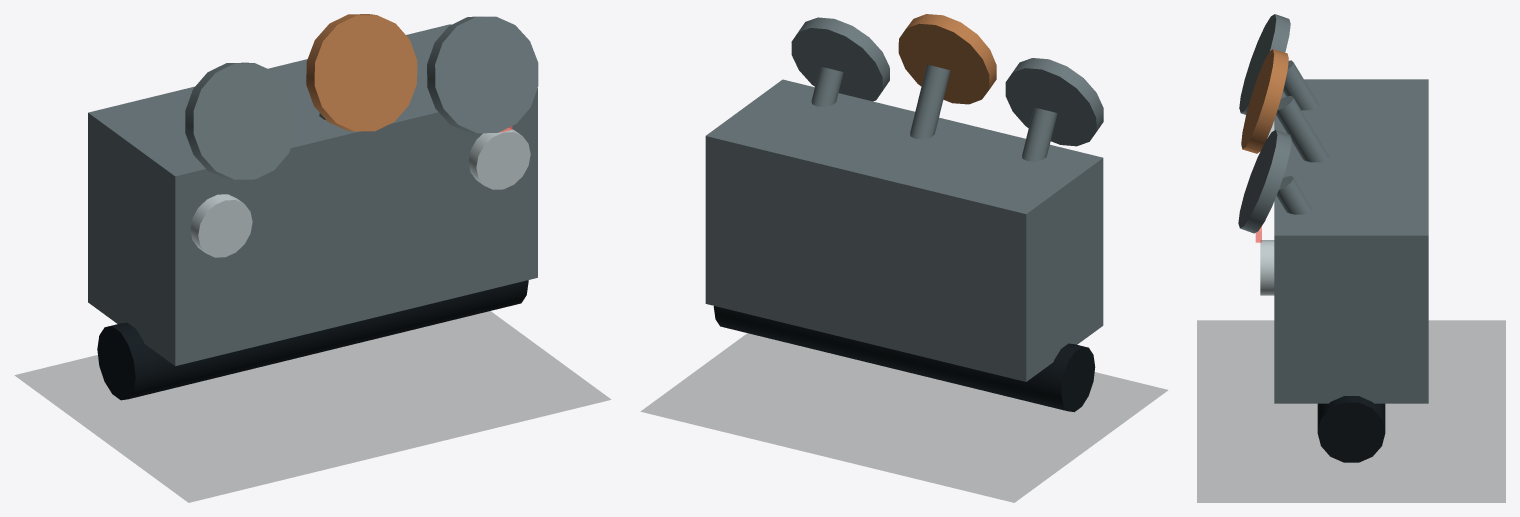
Rendered from hp_room_cyber_valve_cluster.glb.
3 views of the same model, side by side, from view 1: azimuth 30°, elevation 25°; view 2: azimuth 150°, elevation 25°; view 3: azimuth 270°, elevation 25° (orthographic). The views are drawn at different scales.
Visible parts, largest first — view 1: manifold_block, contact_shadow, feed_pipe, valve_wheel_2, valve_wheel_0, valve_wheel_1, gauge_left, gauge_right; view 2: manifold_block, contact_shadow, feed_pipe, valve_wheel_1, valve_wheel_0, valve_wheel_2, valve_stem_1, valve_stem_0, valve_stem_2; view 3: manifold_block, contact_shadow, feed_pipe, valve_wheel_2, valve_wheel_1, valve_wheel_0, valve_stem_1, valve_stem_0, valve_stem_2, gauge_right.
Boxes of the visible parts, left/top/right/bottom form: manifold_block: left=88, top=24, right=537, bottom=366; contact_shadow: left=15, top=311, right=610, bottom=502; feed_pipe: left=97, top=280, right=528, bottom=400; valve_wheel_2: left=427, top=16, right=538, bottom=133; valve_wheel_0: left=185, top=62, right=296, bottom=179; valve_wheel_1: left=306, top=14, right=417, bottom=131; gauge_left: left=190, top=194, right=252, bottom=257; gauge_right: left=468, top=128, right=530, bottom=189; manifold_block: left=705, top=79, right=1103, bottom=381; contact_shadow: left=641, top=333, right=1167, bottom=502; feed_pipe: left=713, top=306, right=1095, bottom=412; valve_wheel_1: left=898, top=14, right=996, bottom=104; valve_wheel_0: left=1005, top=58, right=1103, bottom=146; valve_wheel_2: left=791, top=17, right=889, bottom=101; valve_stem_1: left=910, top=64, right=950, bottom=139; valve_stem_0: left=1022, top=107, right=1057, bottom=161; valve_stem_2: left=811, top=66, right=843, bottom=106; manifold_block: left=1274, top=79, right=1428, bottom=403; contact_shadow: left=1197, top=320, right=1505, bottom=502; feed_pipe: left=1317, top=396, right=1385, bottom=462; valve_wheel_2: left=1238, top=130, right=1291, bottom=233; valve_wheel_1: left=1241, top=49, right=1288, bottom=153; valve_wheel_0: left=1239, top=14, right=1290, bottom=114; valve_stem_1: left=1276, top=95, right=1329, bottom=162; valve_stem_0: left=1283, top=60, right=1319, bottom=110; valve_stem_2: left=1276, top=176, right=1312, bottom=214; gauge_right: left=1260, top=240, right=1274, bottom=295.
Size of the model in its own units: 1.4 by 1.28 by 1.
